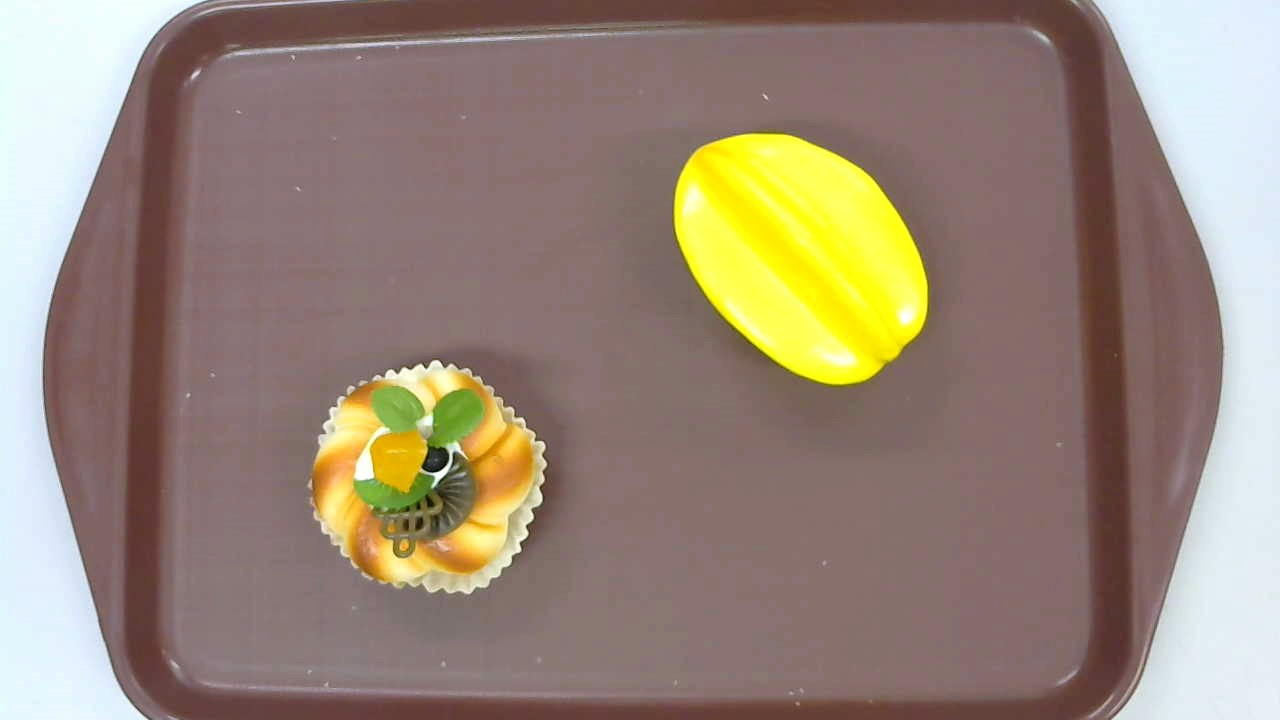fruit tart: (307, 359, 550, 594)
star fruit: (672, 132, 928, 388)
